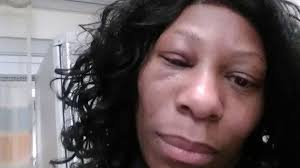black_female: (114, 1, 293, 168)
